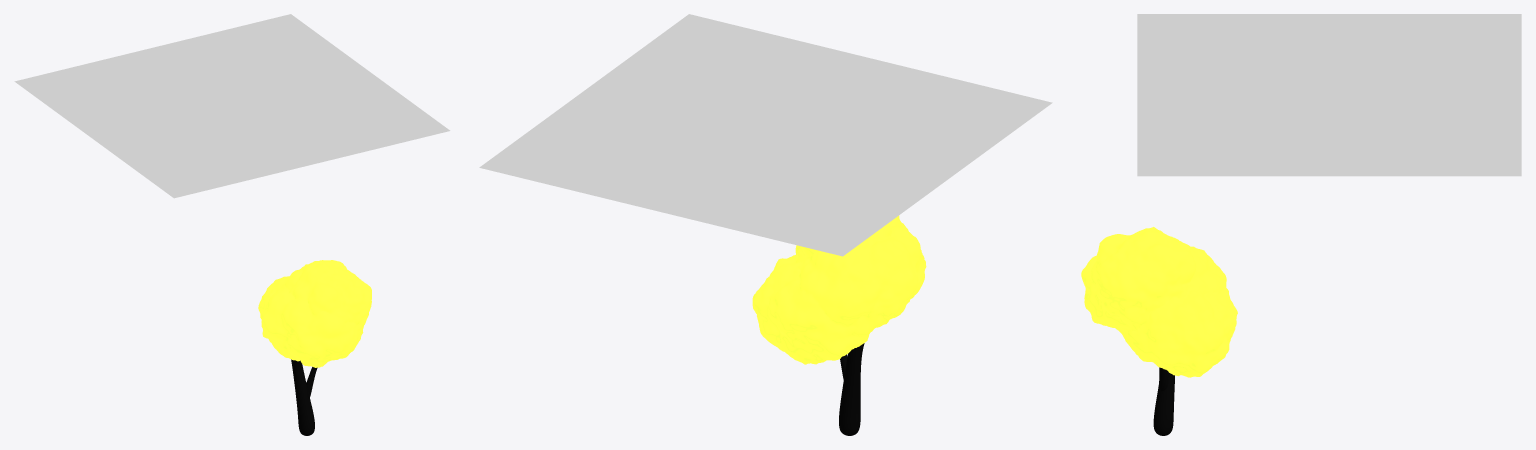
File: tree.fbx
The picture shows the model from 3 angles, left to right: view 1: azimuth 30°, elevation 25°; view 2: azimuth 150°, elevation 25°; view 3: azimuth 270°, elevation 25°; orthographic projection. The views are drawn at different scales.
Visible parts, largest first — view 1: Plane.001, foliage:tree.006; view 2: Plane.001, foliage:tree.006; view 3: Plane.001, foliage:tree.006.
Part boxes in pixels (box(x1,y1,x2,y2)): Plane.001: box(14, 14, 450, 198); foliage:tree.006: box(258, 260, 371, 435); Plane.001: box(479, 14, 1052, 256); foliage:tree.006: box(752, 215, 926, 435); Plane.001: box(1137, 14, 1521, 176); foliage:tree.006: box(1081, 227, 1237, 435).
Size of what is drawn, in the model's own units: 1.13 by 1.1 by 1.3.
